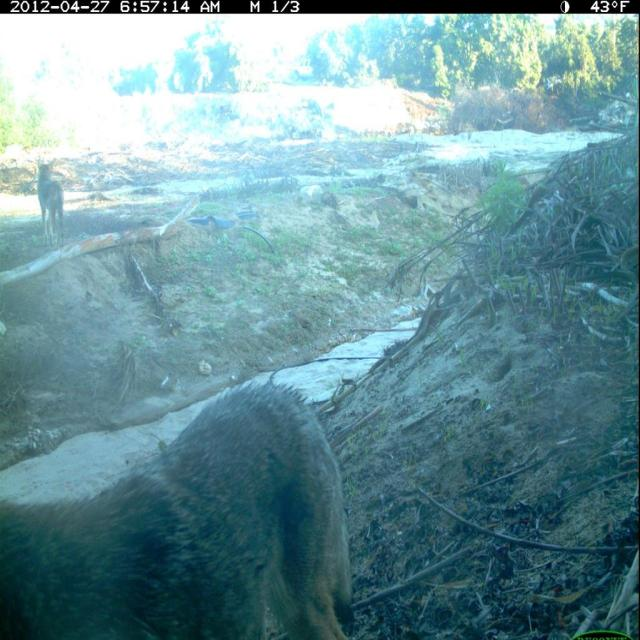coyote: (4, 362, 363, 640), (35, 155, 68, 251)
